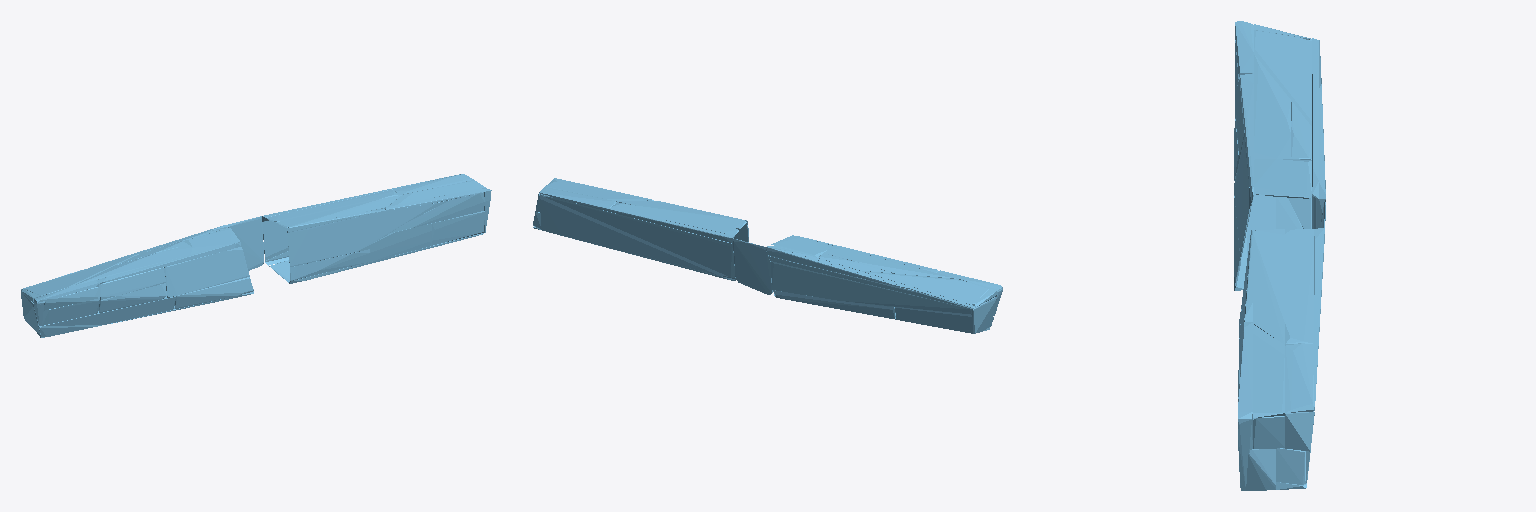
URDF robot description (blob507):
<robot name="blob507">
  <link name="random_obj_507">
    <contact>
      <lateral_friction value="1.0"/>
      <rolling_friction value="0.0"/>
      <inertia_scaling value="3.0"/>
      <contact_cfm value="0.0"/>
      <contact_erp value="1.0"/>
    </contact>
    <inertial>
      <origin rpy="0 0 0" xyz="0 0 0"/>
      <mass value="0.1"/>
      <inertia ixx="1" ixy="0" ixz="0" iyy="1" iyz="0" izz="0"/>
    </inertial>
    <visual>
      <origin rpy="0 0 0" xyz="0 0 0"/>
      <geometry>
        <mesh filename="507.obj" scale="0.015 0.015 0.015"/>
      </geometry>
      <material name="blockmat">
        <color rgba="0.55 0.79 0.92 1"/>
      </material>
    </visual>
    <collision>
      <origin rpy="0 0 0" xyz="0 0 0"/>
      <geometry>
        <mesh filename="507.obj" scale="0.015 0.015 0.015"/>
      </geometry>
    </collision>
  </link>
</robot>

--- Render facts (derived) ---
The picture shows the robot from 3 angles, left to right: view 1: azimuth 30°, elevation 25°; view 2: azimuth 150°, elevation 25°; view 3: azimuth 270°, elevation 25°; orthographic projection.
Model blob507 with 1 links and 0 joints (none), rooted at random_obj_507, posed every joint at zero.
Visible links, largest first — view 1: random_obj_507; view 2: random_obj_507; view 3: random_obj_507.
Boxes of the visible links, x1,y1,x2,y2 form: random_obj_507: [21, 174, 491, 337]; random_obj_507: [533, 178, 1002, 333]; random_obj_507: [1234, 21, 1325, 490].
Bounding box of the posed robot: 0.0911 × 0.0088 × 0.0103 m (x, y, z).
1 mesh visuals loaded from 1 distinct referenced files (1 OBJ).